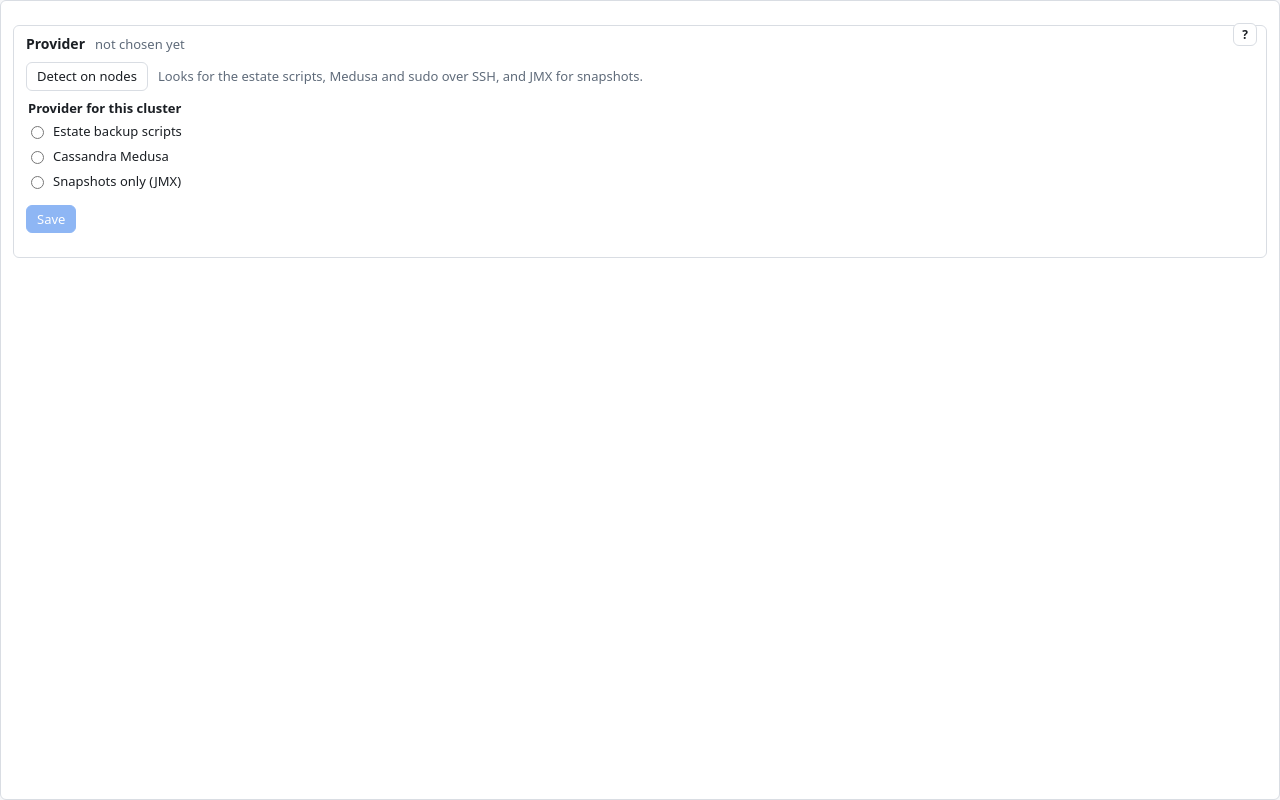
BackupPanel › detects providers when none is chosen
Click the button "Detect on nodes".
click(87, 77)  # box left=26, top=62, right=148, bottom=91
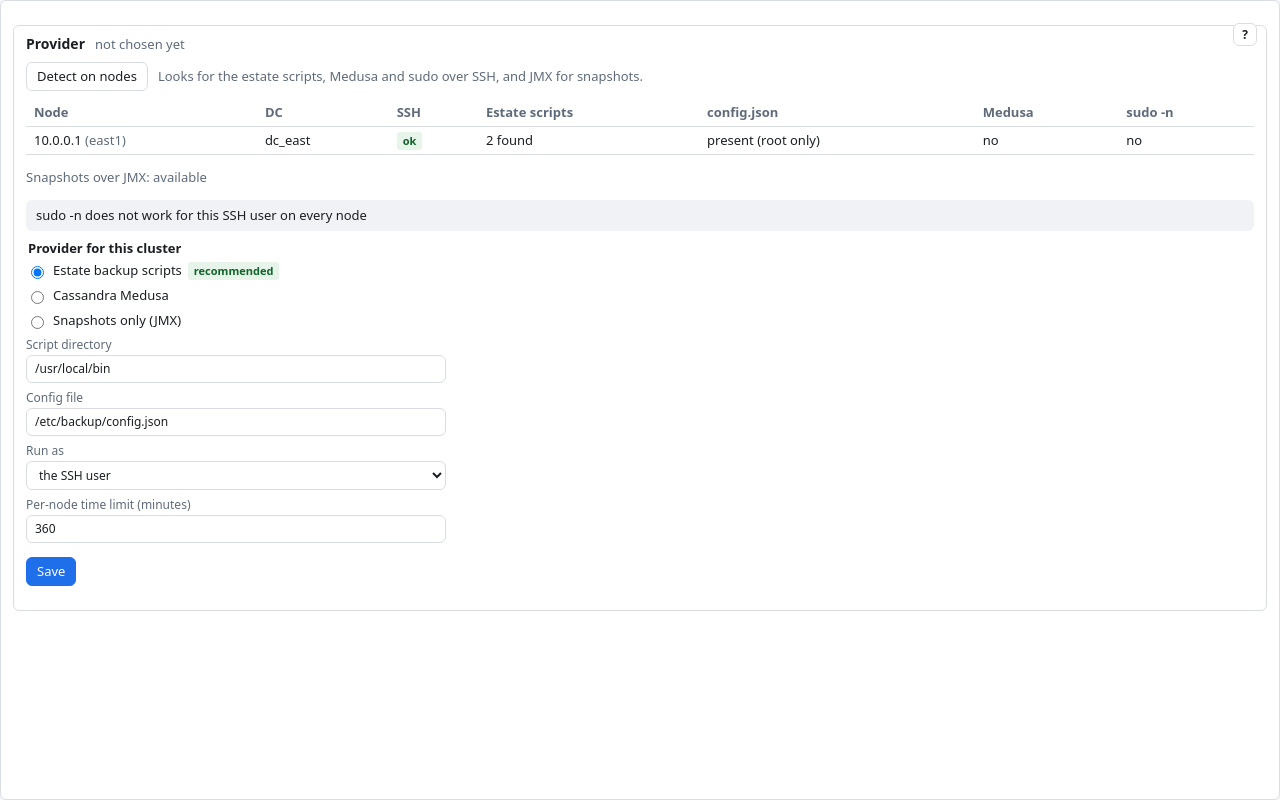
Now the text "present (root only)" is shown, box left=699, top=127, right=975, bottom=154
Now the radio button labelled "Estate backup scripts recommended" is checked, box left=31, top=266, right=44, bottom=279
Now the dropdown labelled "Run as" shows "the SSH user", box left=26, top=461, right=446, bottom=490
